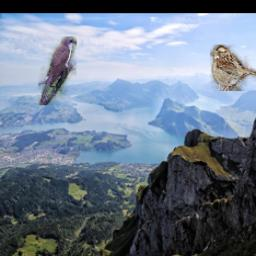Cuckoo: (39, 36, 78, 105)
Sparrow: (211, 45, 256, 91)
